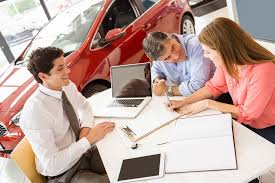person: (17, 40, 99, 166), (199, 17, 273, 129), (141, 24, 213, 105)
